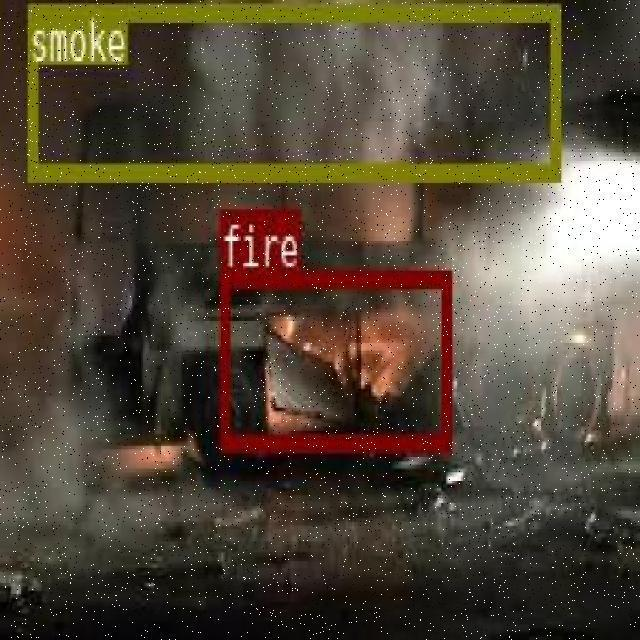Smoke: (29, 32, 554, 145)
